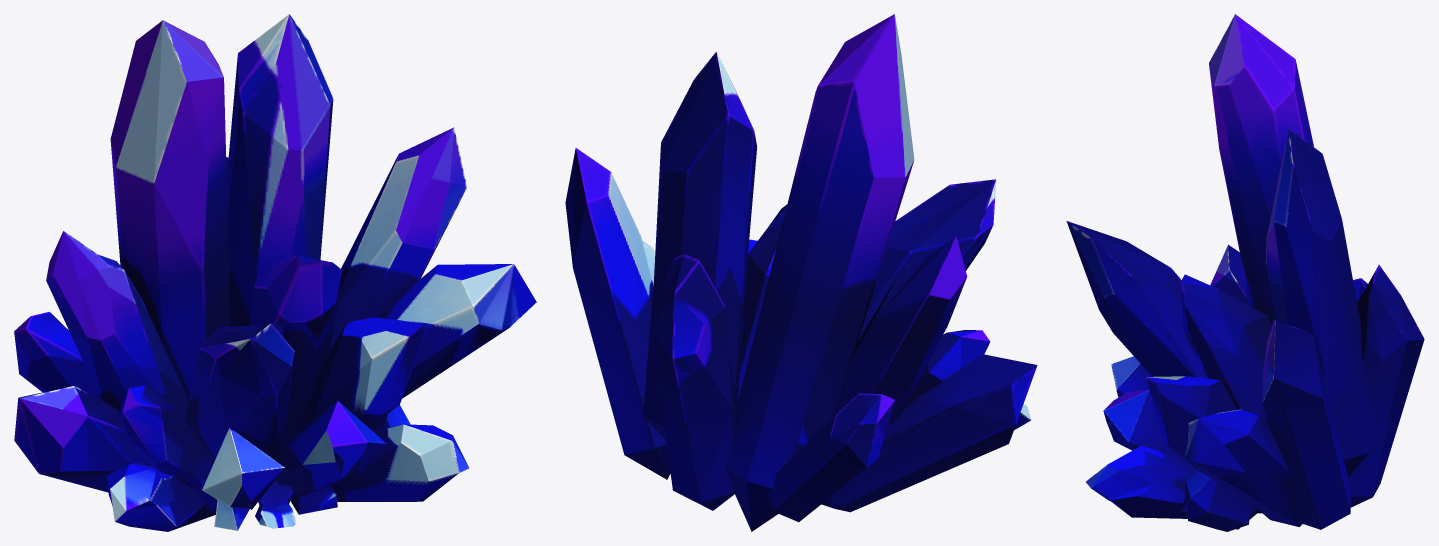
Rendered from crystalexport.fbx.
3 renders of one model, left to right at view 1: azimuth 30°, elevation 25°; view 2: azimuth 150°, elevation 25°; view 3: azimuth 270°, elevation 25°, orthographic. The views are drawn at different scales.
Parts seen in each view (by area): view 1: crystal17_2; view 2: crystal17_2; view 3: crystal17_2.
Boxes of the visible parts, <box> form: crystal17_2: <box>14,14,536,531</box>; crystal17_2: <box>565,14,1037,531</box>; crystal17_2: <box>1066,14,1424,531</box>.
Size of the model in its own units: 87.41 by 88.06 by 63.38.
1 material, 1 textured.
